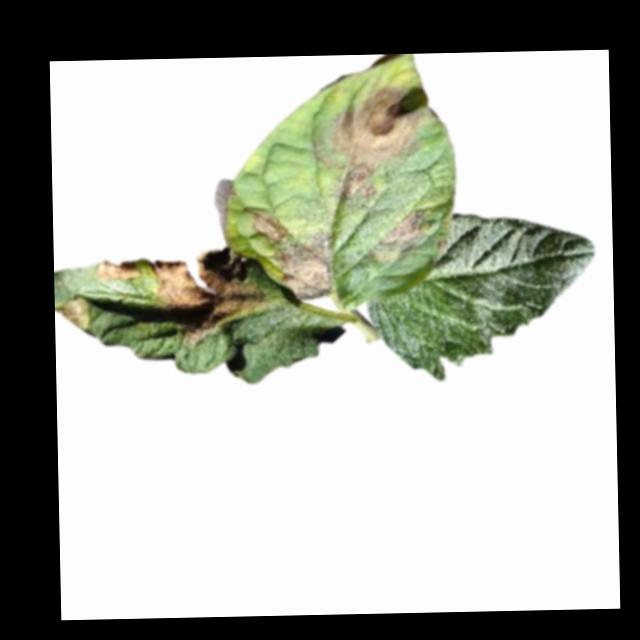Late_blight: (313, 84, 441, 201), (153, 246, 271, 347), (271, 227, 336, 301), (365, 207, 431, 267), (54, 292, 91, 333), (93, 255, 142, 284), (249, 210, 286, 244)
healthy: (364, 212, 599, 384)
